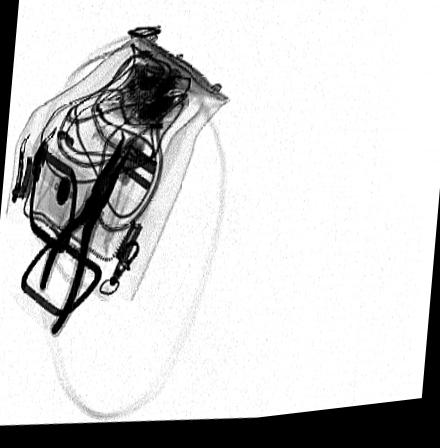Pliers: (34, 130, 135, 343)
